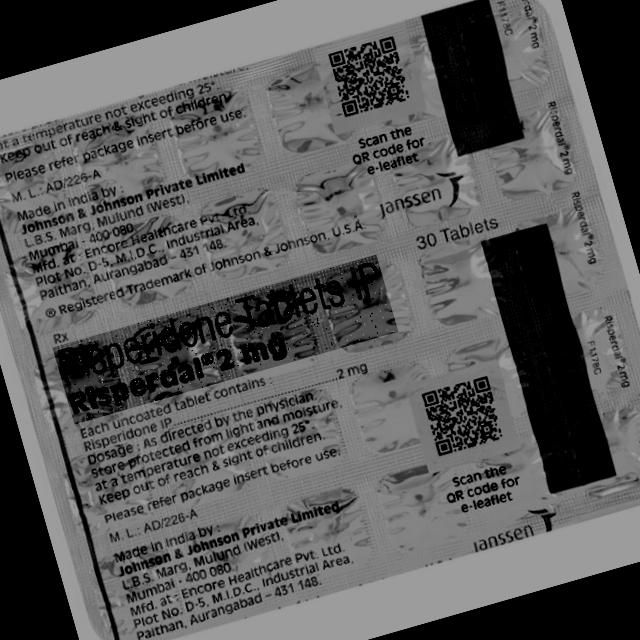Medicine-name: (53, 255, 399, 425)
